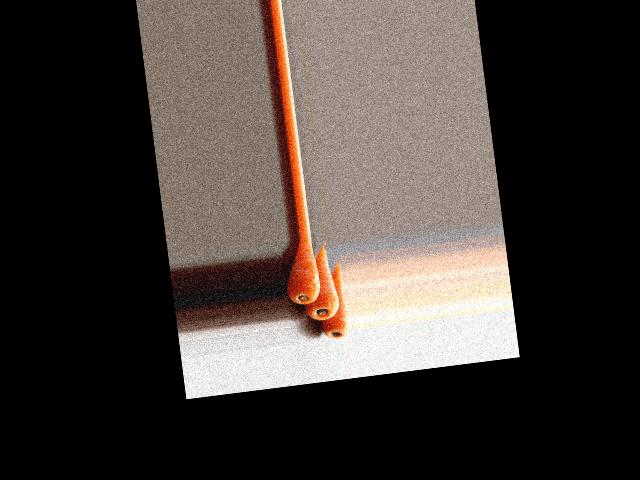carrot: (311, 262, 348, 331)
